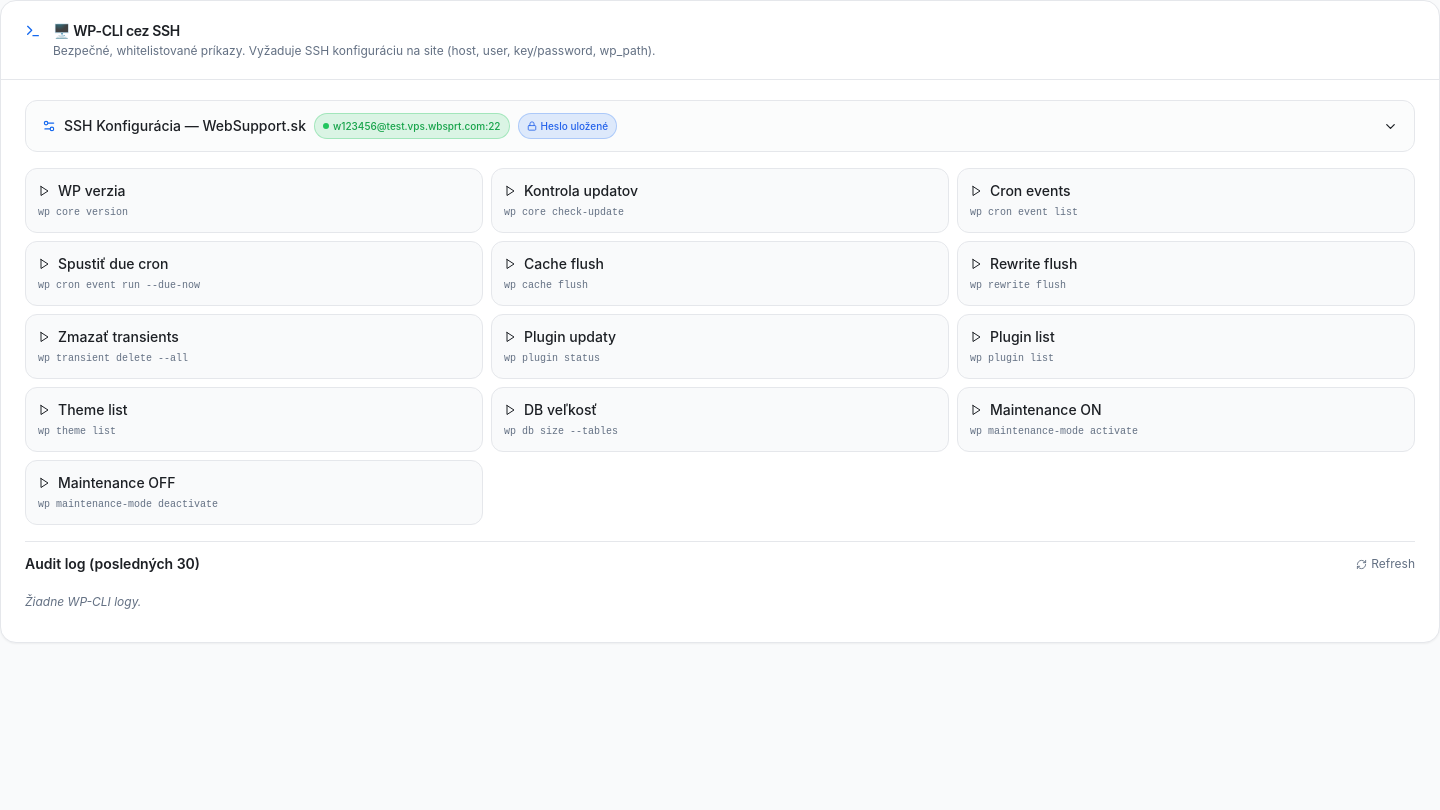
Scenario: WPCLIManager – destructive command confirm › shows confirm dialog for Cache flush (destructive)
Expected: the text "w123456@test.vps.wbsprt.com:22" is shown, top-left (314, 113), bottom-right (510, 139)
Click the button "Cache flush wp cache flush".
click(564, 264)  # box top-left (491, 241), bottom-right (949, 306)
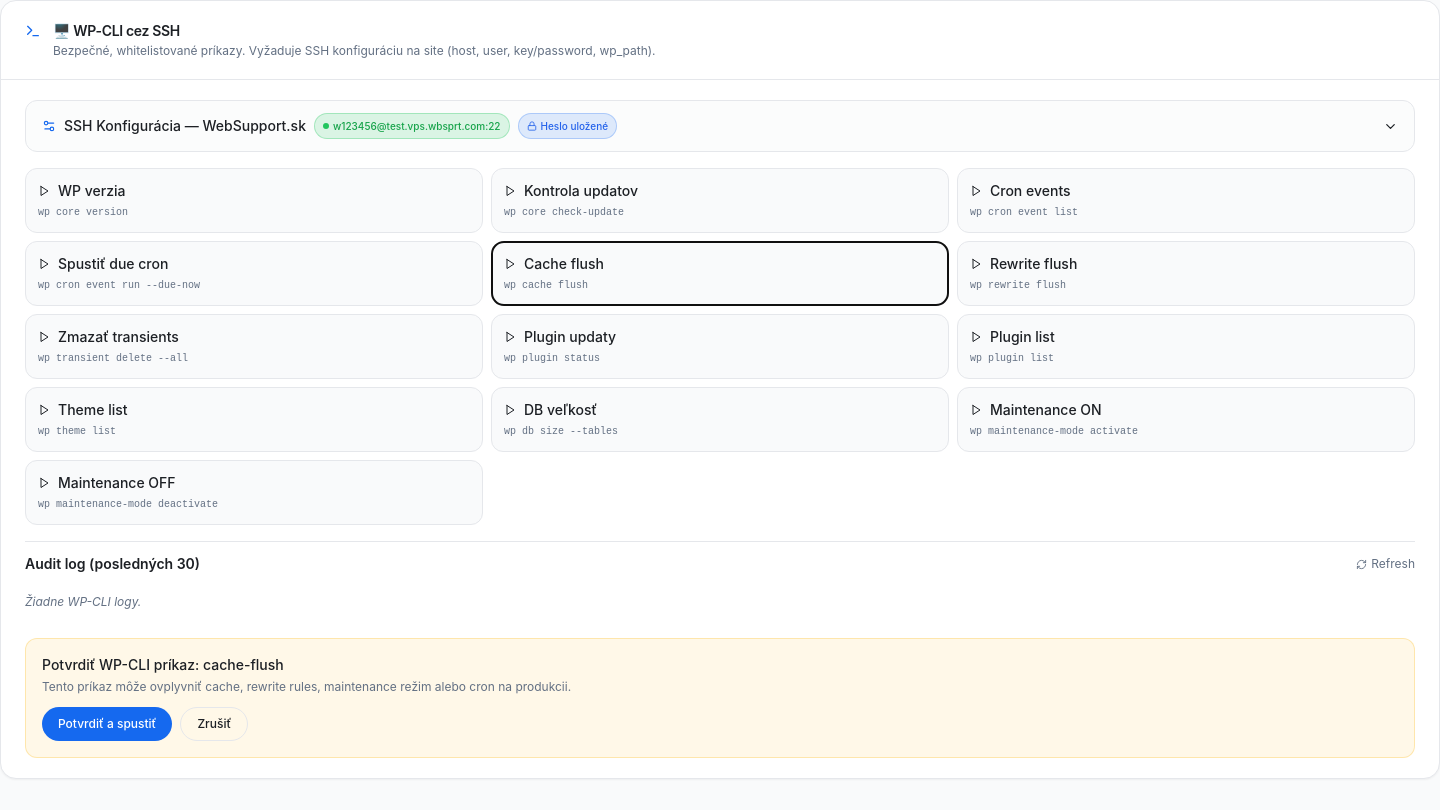
Now the text "Potvrdiť WP-CLI príkaz: cache-flush" is shown, box top-left (42, 656), bottom-right (284, 673)
